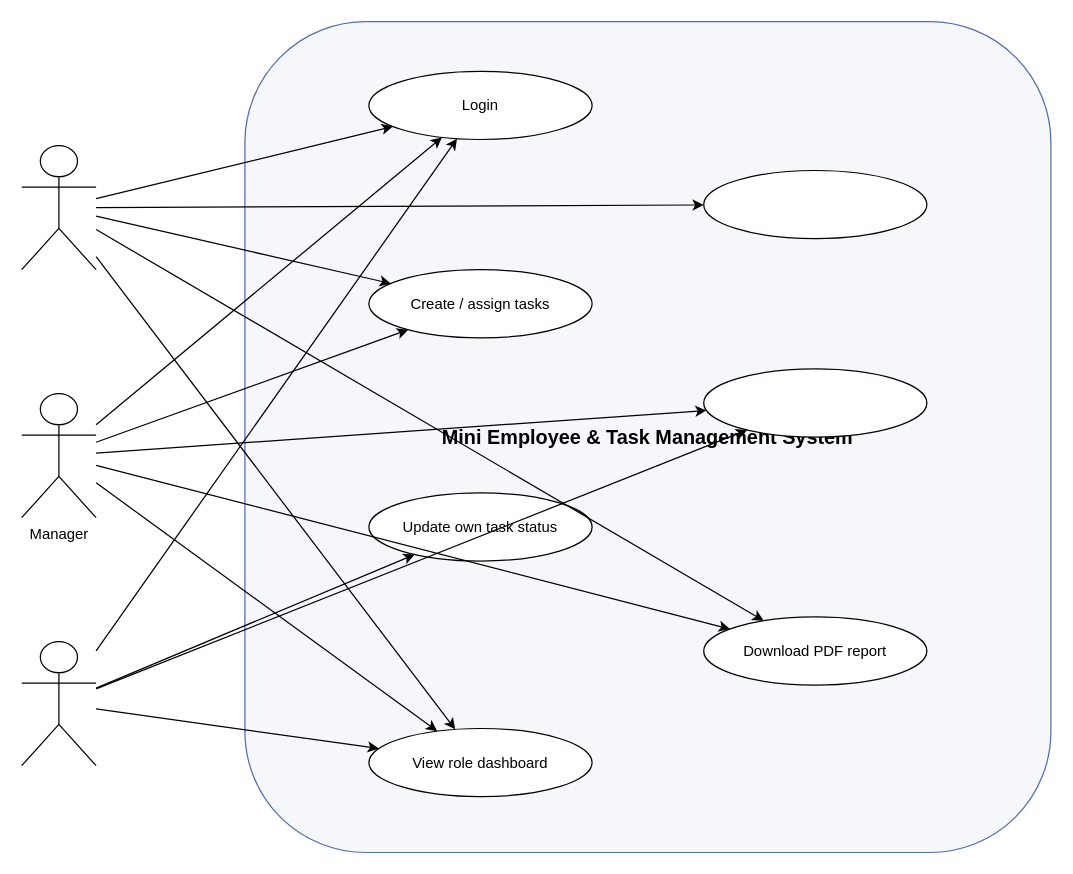
This 1073x874 diagram has some shape labels left out. Each missing label, with the centre of its shape:
"Admin" belongs at pixel 58 207.
"Employee" belongs at pixel 58 703.
"Manage users" belongs at pixel 814 204.
"View scoped tasks" belongs at pixel 814 402.
